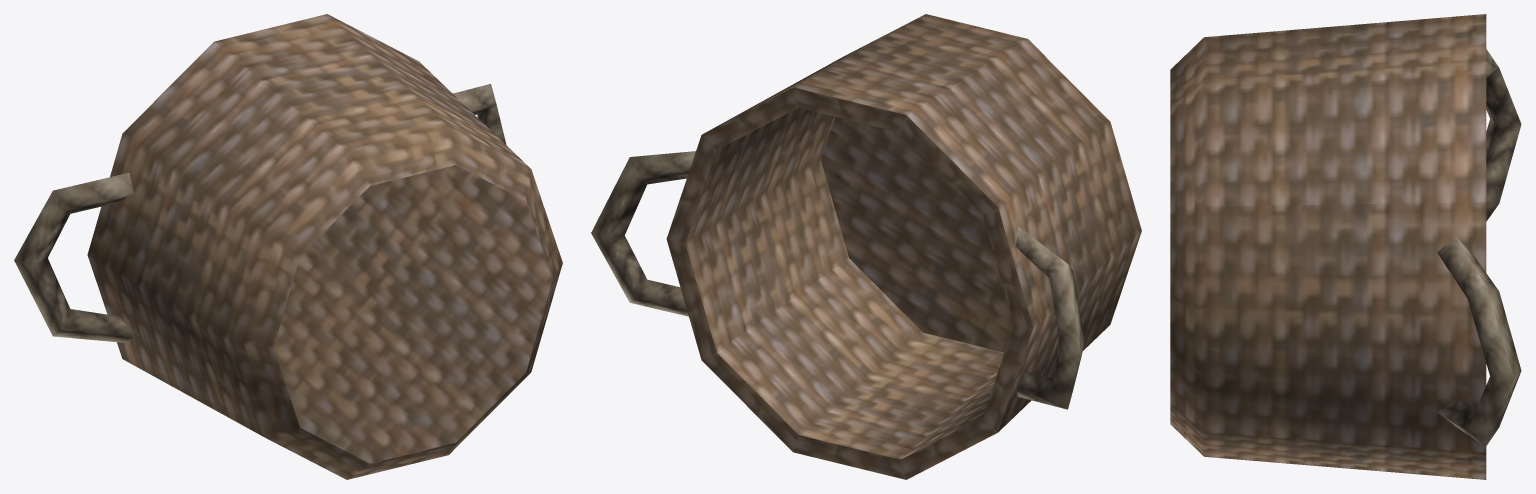
File: Basket_Round_A.fbx
3 views of the same model, side by side, from view 1: azimuth 30°, elevation 25°; view 2: azimuth 150°, elevation 25°; view 3: azimuth 270°, elevation 25° (orthographic). The views are drawn at different scales.
Visible parts, largest first — view 1: Basket_Round_A; view 2: Basket_Round_A; view 3: Basket_Round_A.
Part boxes in pixels (x1,y1,x2,y2): Basket_Round_A: (14, 14, 562, 479); Basket_Round_A: (591, 14, 1141, 479); Basket_Round_A: (1170, 14, 1521, 479).
Size of the model in its own units: 1.08 by 0.772 by 0.6069.
